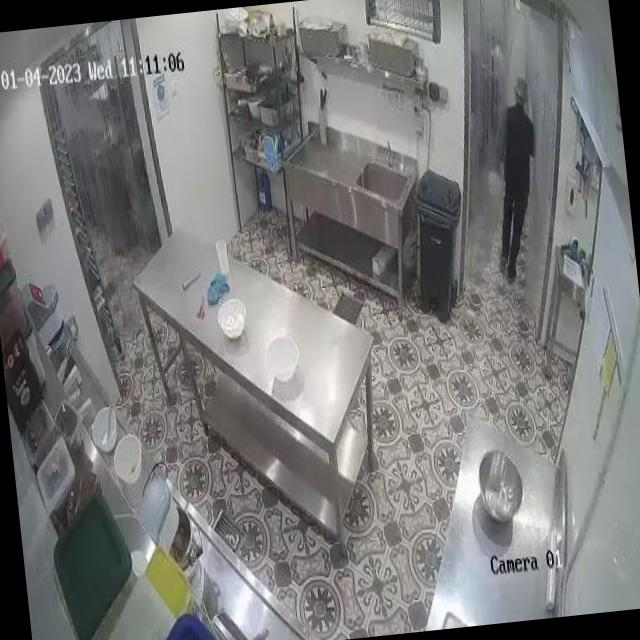hairnet: (513, 75, 530, 102)
